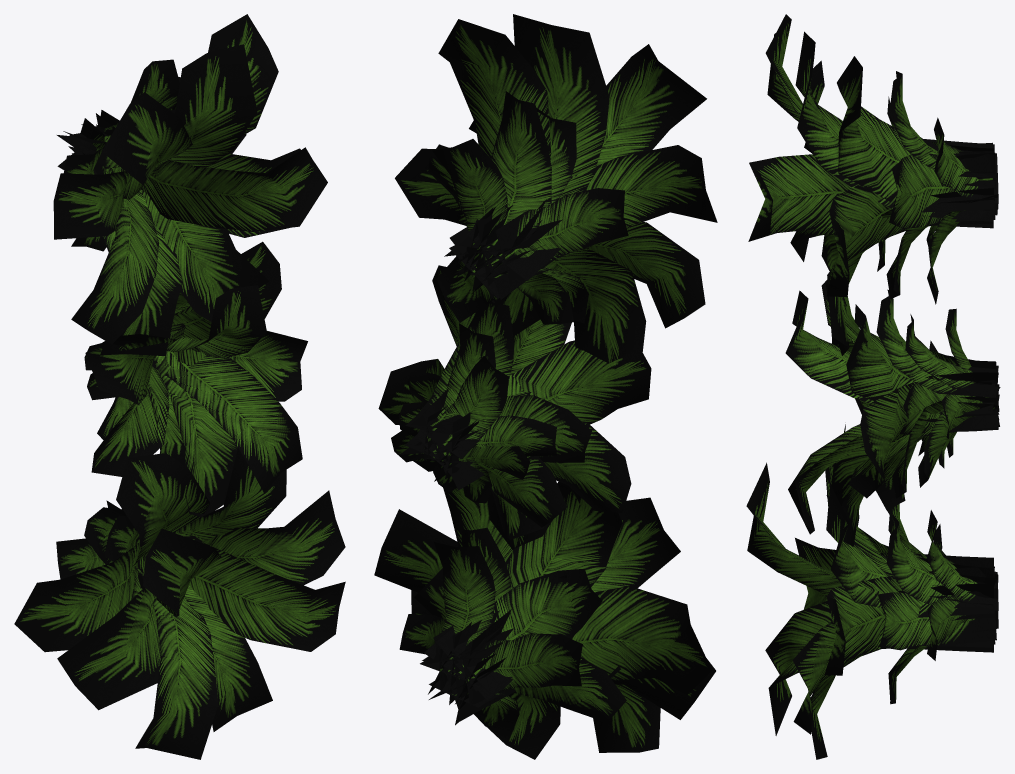
The model's file is museum_palms.obj.
3 renders of one model, left to right at view 1: azimuth 30°, elevation 25°; view 2: azimuth 150°, elevation 25°; view 3: azimuth 270°, elevation 25°, orthographic. The views are drawn at different scales.
Parts seen in each view (by area): view 1: museum_palms_tree.001; view 2: museum_palms_tree.001; view 3: museum_palms_tree.001.
Boxes of the visible parts, left/top/right/bottom form: museum_palms_tree.001: left=14, top=14, right=345, bottom=759; museum_palms_tree.001: left=374, top=14, right=717, bottom=759; museum_palms_tree.001: left=746, top=14, right=1000, bottom=759.
Bounding box in the file's own units: 6.28 × 12.87 × 4.15.
